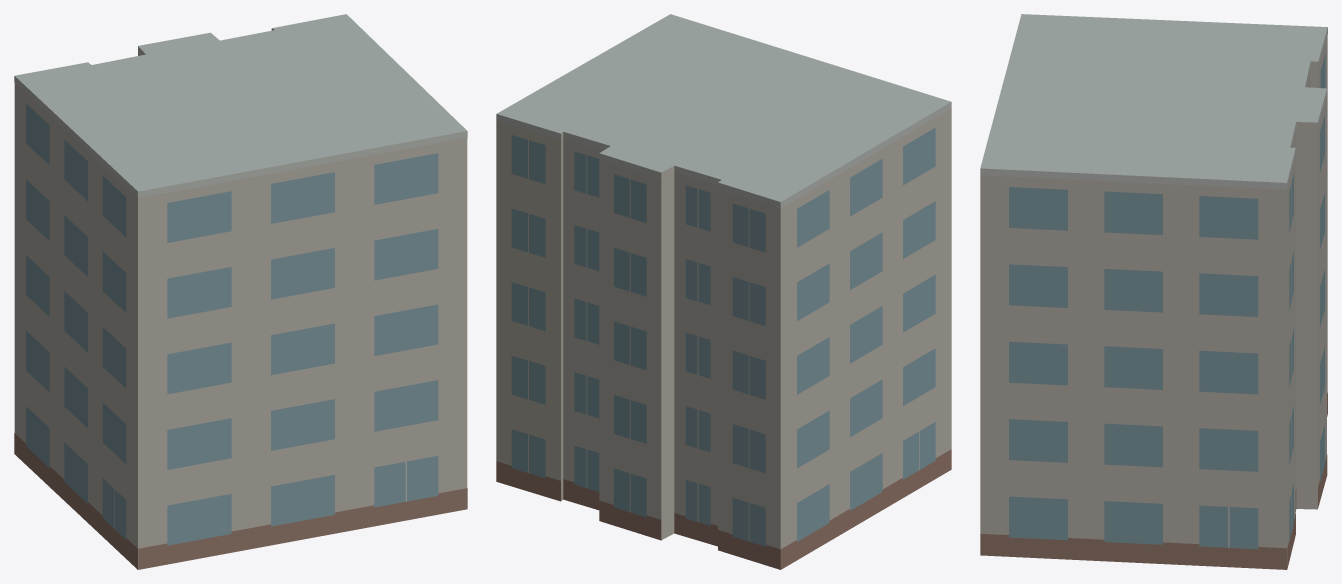
File: survey-upis-32804984.glb
3 views of the same model, side by side, from view 1: azimuth 30°, elevation 25°; view 2: azimuth 150°, elevation 25°; view 3: azimuth 270°, elevation 25° (orthographic). The views are drawn at different scales.
Visible parts, largest first — view 1: survey-upis-32804984.tmp; view 2: survey-upis-32804984.tmp; view 3: survey-upis-32804984.tmp.
Boxes of the visible parts, left/top/right/bottom form: survey-upis-32804984.tmp: left=14, top=14, right=467, bottom=569; survey-upis-32804984.tmp: left=496, top=14, right=951, bottom=569; survey-upis-32804984.tmp: left=980, top=14, right=1327, bottom=569.
Size of the model in its own units: 12.99 by 13.86 by 11.29.
